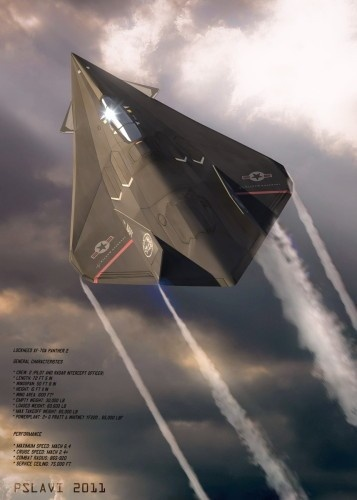airplane: (54, 42, 297, 290)
